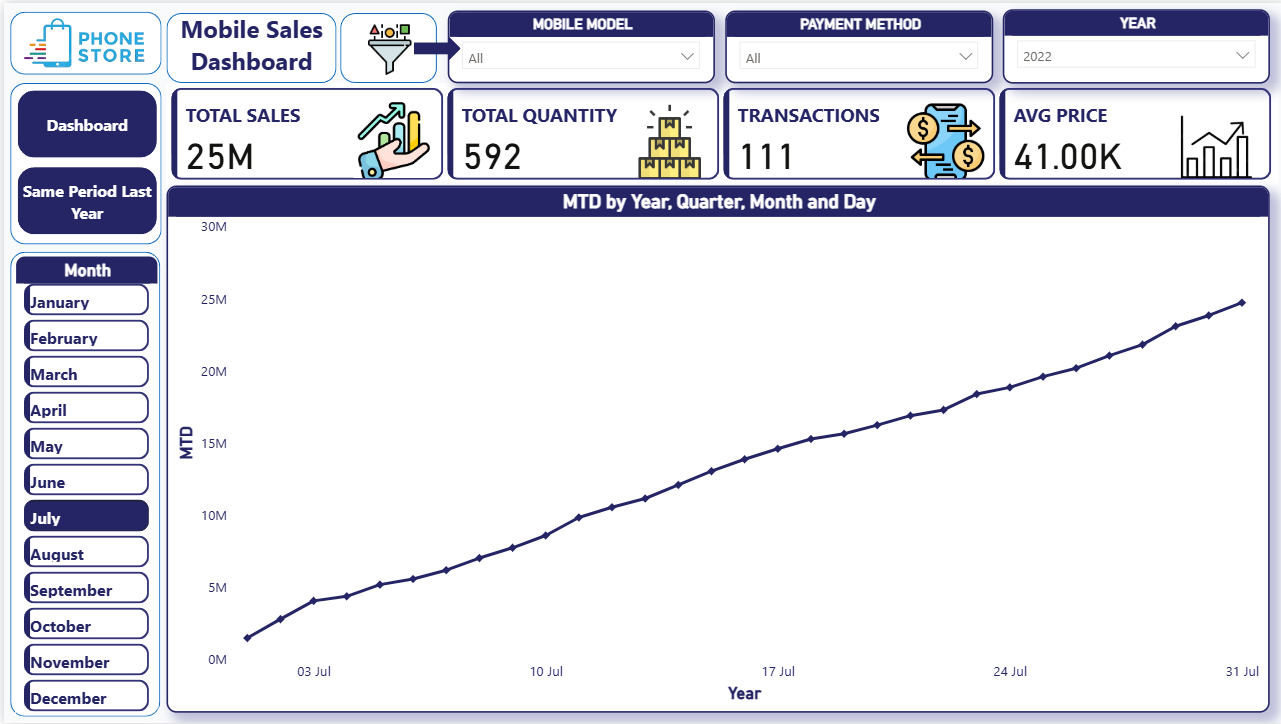

Layout of this report page (visuals, bound fields, positions):
{"tool":"powerbi","page":{"name":"MTD Report","canvas":[1280,720],"ordinal":2},"visuals":[{"type":"shape","box":[5.7,8.6,151.4,62.9],"z":0},{"type":"shape","box":[5.7,80,151.4,161.4],"z":1000},{"type":"shape","box":[6.7,249.2,150,465],"z":2000},{"type":"image","box":[14.3,0,134.3,80],"z":3000},{"type":"cardVisual","fields":{"Data":["Sales Data.Total_Sales","Sales Data.Total_Quantity","Sales Data.Transactions","Sales Data.Average_Price"]},"box":[162,80,1112,102.7],"z":4000},{"type":"slicer","title":"MOBILE MODEL","fields":{"Values":["Sales Data.Mobile Model"]},"box":[443.8,7.7,266.9,73.1],"z":5000},{"type":"slicer","title":"PAYMENT METHOD","fields":{"Values":["Sales Data.Payment Method"]},"box":[721.5,6.9,267.7,73.1],"z":6000},{"type":"slicer","title":"YEAR","fields":{"Values":["Custom Calendar.Date.Variation.Date Hierarchy.Year"]},"box":[998.6,5.7,267.1,74.3],"z":7000},{"type":"shape","box":[336.7,10,96.7,70],"z":8000},{"type":"image","box":[332.2,14.4,106.7,63.3],"z":9000},{"type":"shape","box":[410,33.3,46.7,23.3],"z":10000},{"type":"shape","box":[162.2,10,170,70],"z":11000},{"type":"textbox","box":[160,5,175,82.5],"z":12000},{"type":"pageNavigator","box":[10,81.1,146.7,160],"z":13000},{"type":"lineChart","title":"MTD by Year, Quarter, Month and Day","fields":{"Category":["Custom Calendar.Date.Variation.Date Hierarchy.Year","Custom Calendar.Date.Variation.Date Hierarchy.Quarter","Custom Calendar.Date.Variation.Date Hierarchy.Month","Custom Calendar.Date.Variation.Date Hierarchy.Day"],"Y":["Sales Data.MTD"]},"box":[162.9,182.9,1102.9,527.1],"z":14000},{"type":"advancedSlicerVisual","fields":{"Values":["Custom Calendar.Date.Variation.Date Hierarchy.Month"]},"box":[10.9,253.1,143.6,466.9],"z":15000},{"type":"pageNavigator","box":[13.3,88.1,139.9,146],"z":16000}]}

Visuals, with their boxes in screenshot pixels (x1, y1, x2, y2), scaled from the page's 1280x720 canvas onto the 1281x724 screenshot:
shape: x1=6, y1=9, x2=157, y2=72
shape: x1=6, y1=80, x2=157, y2=243
shape: x1=7, y1=251, x2=157, y2=718
image: x1=14, y1=0, x2=149, y2=80
cardVisual - Sales Data.Total_Sales x Sales Data.Total_Quantity: x1=162, y1=80, x2=1275, y2=184
"MOBILE MODEL" slicer: x1=444, y1=8, x2=711, y2=81
"PAYMENT METHOD" slicer: x1=722, y1=7, x2=990, y2=80
"YEAR" slicer: x1=999, y1=6, x2=1267, y2=80
shape: x1=337, y1=10, x2=434, y2=80
image: x1=332, y1=14, x2=439, y2=78
shape: x1=410, y1=33, x2=457, y2=57
shape: x1=162, y1=10, x2=332, y2=80
textbox: x1=160, y1=5, x2=335, y2=88
pageNavigator: x1=10, y1=82, x2=157, y2=242
"MTD by Year, Quarter, Month and Day" lineChart: x1=163, y1=184, x2=1267, y2=714
advancedSlicerVisual - Custom Calendar.Date.Variation.Date Hierarchy.Month: x1=11, y1=255, x2=155, y2=723
pageNavigator: x1=13, y1=89, x2=153, y2=235
